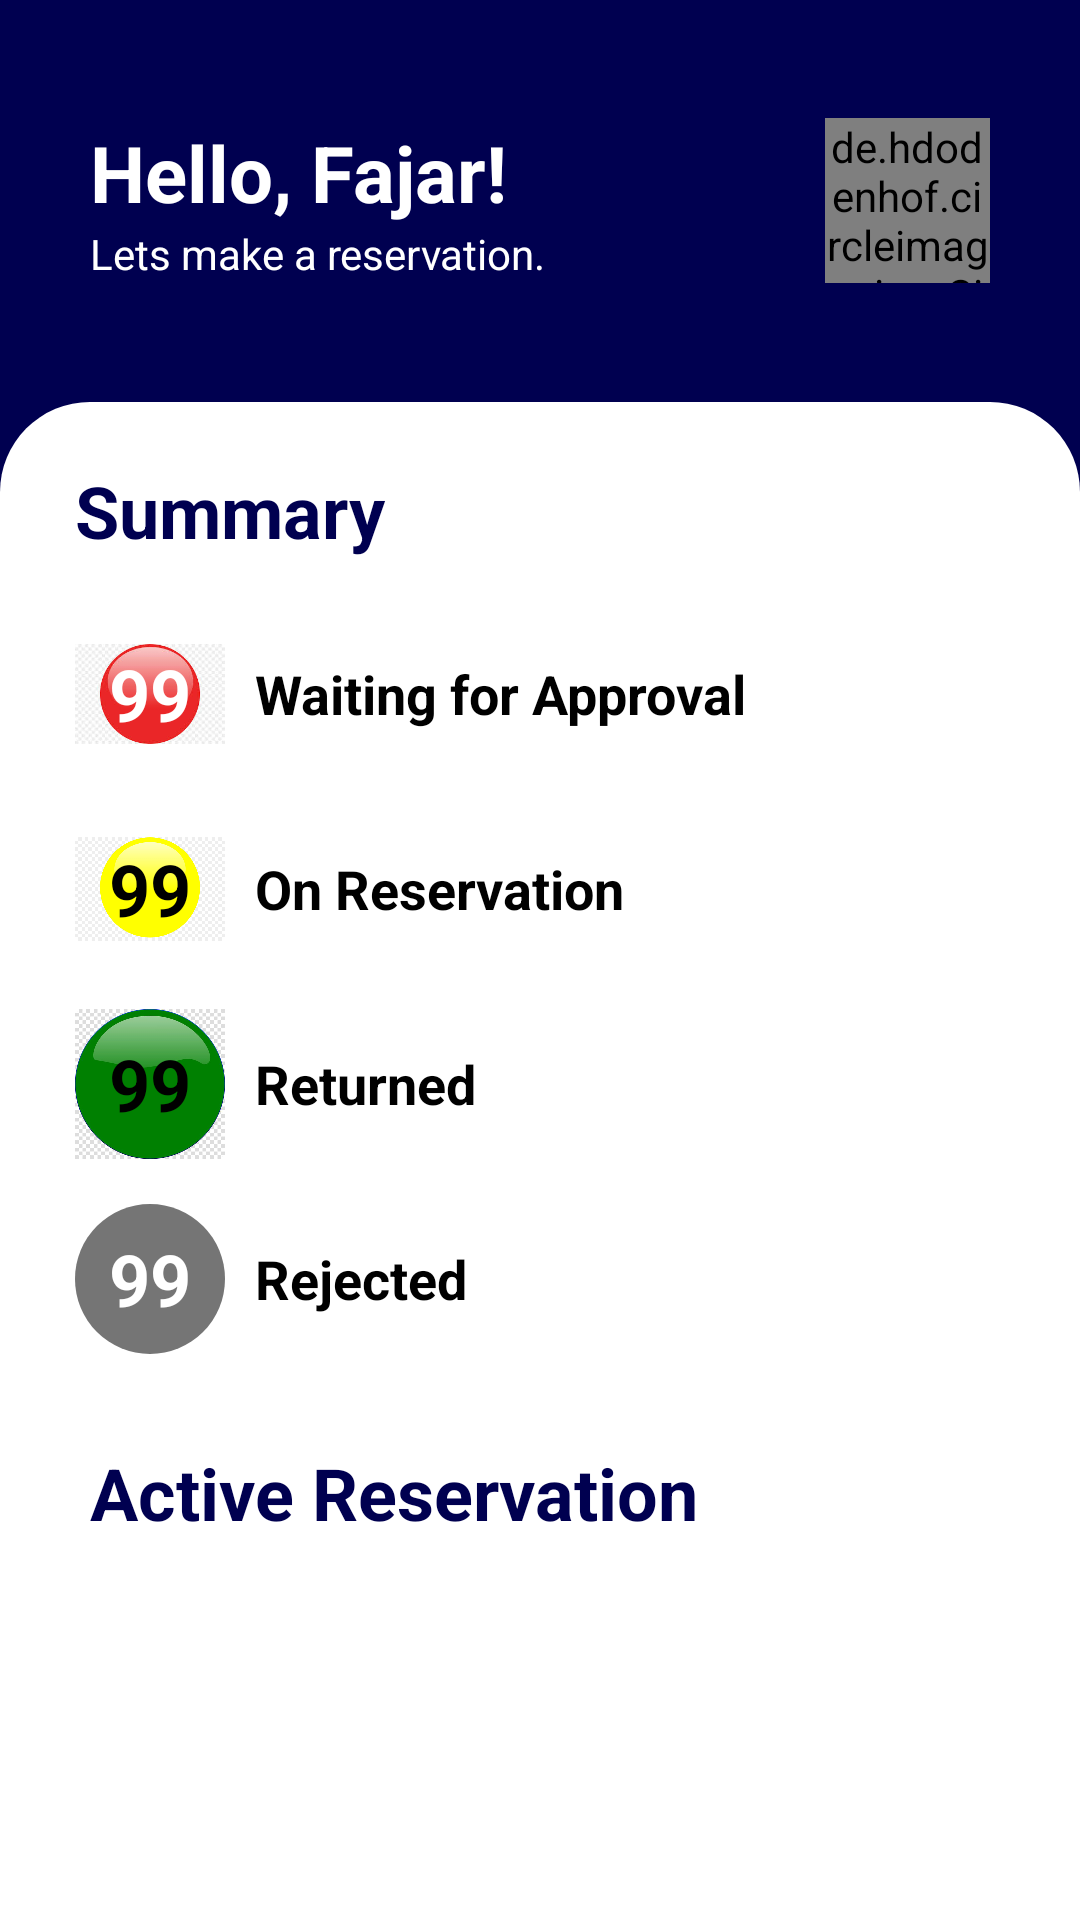

Screen size 1080 × 1920. Icon name, then its center in pixels as (x=x, y=y):
circle: (x=149, y=694), (x=150, y=887), (x=150, y=1084), (x=150, y=1279)
